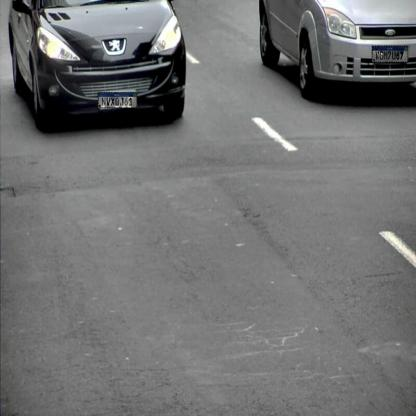PlacaM: (98, 92, 137, 108), (372, 46, 408, 62)
